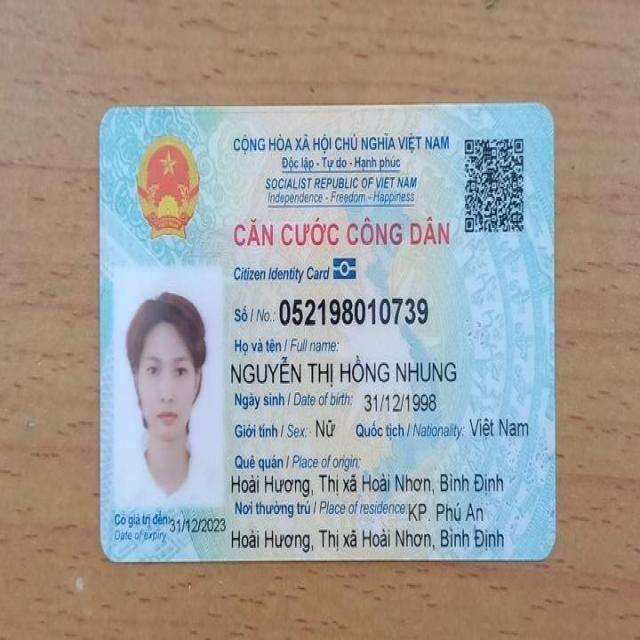bottom_left: (88, 517, 134, 571)
bottom_right: (514, 526, 562, 578)
image_person: (106, 264, 218, 500)
top_left: (78, 94, 132, 150)
top_right: (518, 93, 562, 136)
